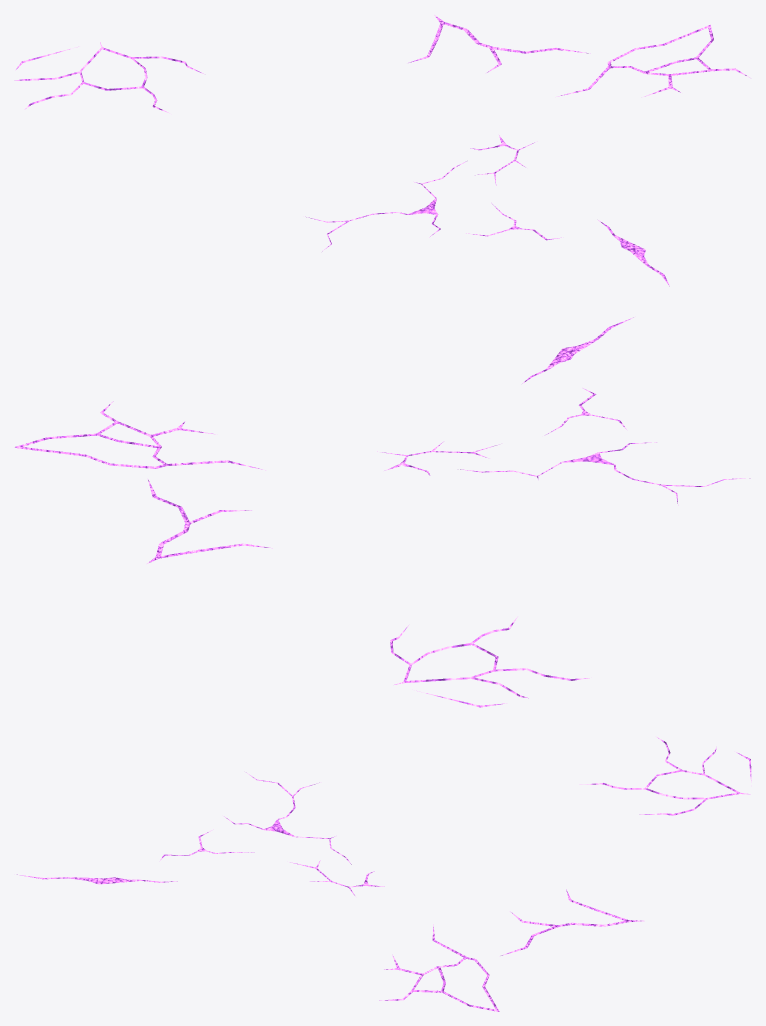
File: t1_lb_cracked_ground.glb
3 renders of one model, top to bottom at view 1: azimuth 30°, elevation 25°; view 2: azimuth 150°, elevation 25°; view 3: azimuth 270°, elevation 25°, orthographic. The views are drawn at different scales.
Parts seen in each view (by area): view 1: t1_lb_cracked_ground_mdl; view 2: t1_lb_cracked_ground_mdl; view 3: t1_lb_cracked_ground_mdl.
Part boxes in pixels (x1,y1,x2,y2): t1_lb_cracked_ground_mdl: (14, 15, 749, 286); t1_lb_cracked_ground_mdl: (14, 317, 750, 707); t1_lb_cracked_ground_mdl: (17, 737, 751, 1011).
Size of the model in its own units: 24.28 by 0.1444 by 27.53.
1 material, 1 textured.
